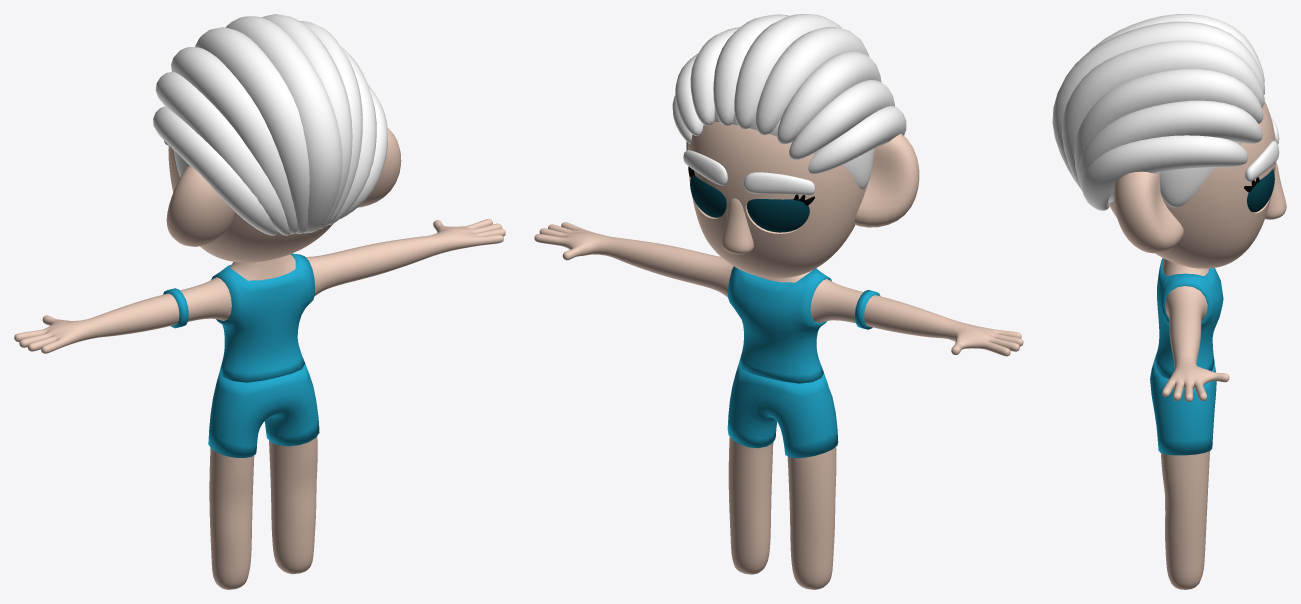
The model's file is BodyFemaleAthlete2.fbx.
3 views of the same model, side by side, from view 1: azimuth 30°, elevation 25°; view 2: azimuth 150°, elevation 25°; view 3: azimuth 270°, elevation 25° (orthographic).
Visible parts, largest first — view 1: HairExtra.003, Body.006, shirt.003, Head.006, shorts.001; view 2: HairExtra.003, Body.006, Head.006, shirt.003, shorts.001, Brows.005, Hairbase.005; view 3: HairExtra.003, Head.006, Body.006, shorts.001, shirt.003, Hairbase.005, Brows.005.
Boxes of the visible parts, box(x1,y1,x2,y2) form: HairExtra.003: box(153, 14, 387, 235); Body.006: box(14, 219, 505, 589); shirt.003: box(211, 253, 315, 382); Head.006: box(166, 127, 401, 262); shorts.001: box(208, 364, 319, 457); HairExtra.003: box(672, 14, 906, 173); Body.006: box(534, 222, 1023, 589); Head.006: box(686, 121, 919, 278); shirt.003: box(728, 266, 831, 383); shorts.001: box(727, 364, 838, 457); Brows.005: box(683, 150, 815, 195); Hairbase.005: box(714, 107, 874, 189); HairExtra.003: box(1052, 14, 1264, 210); Head.006: box(1109, 101, 1286, 268); Body.006: box(1161, 258, 1229, 589); shorts.001: box(1150, 362, 1216, 455); shirt.003: box(1154, 258, 1223, 378); Hairbase.005: box(1109, 141, 1241, 207); Brows.005: box(1245, 118, 1279, 181).
Bounding box in the file's own units: 172 × 190 × 73.48.
